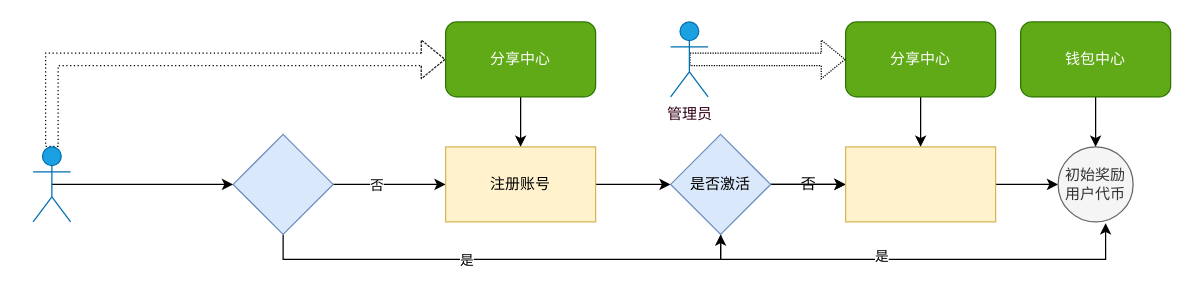
Image size: 1193x291. Some labels were removed from this diagram. Each missing label, with the centre of its shape:
"是否注册" goes at (x=282, y=183).
"普通用户" goes at (x=51, y=184).
"激活账号" goes at (x=920, y=184).
